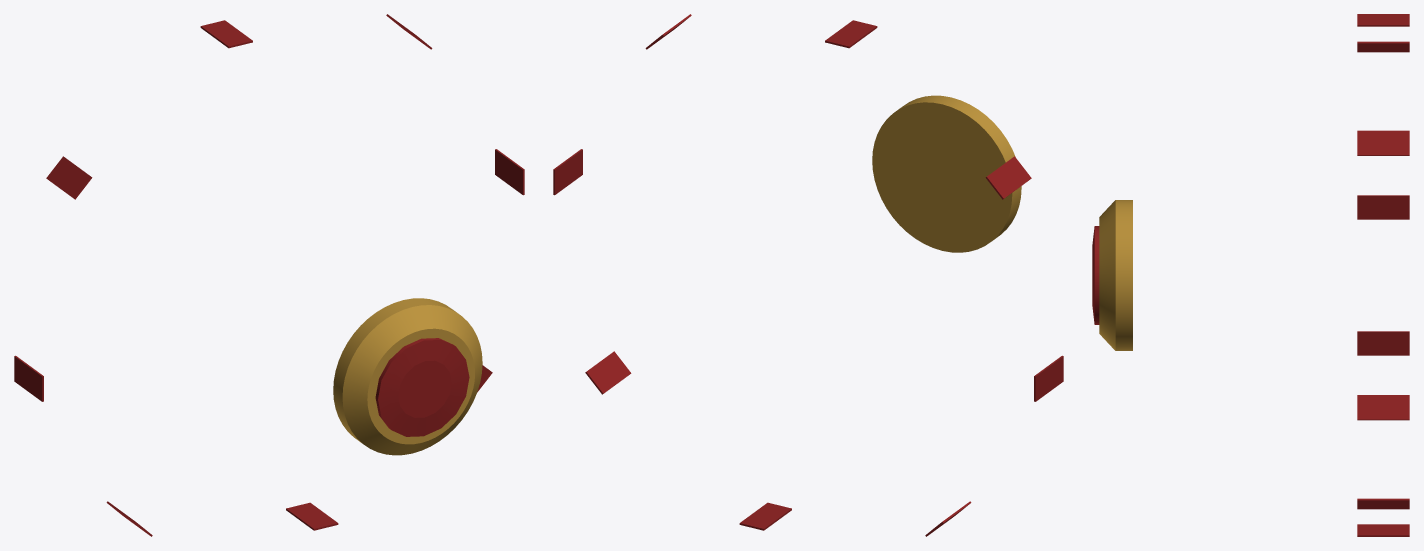
File: h12_seal.obj
3 renders of one model, left to right at view 1: azimuth 30°, elevation 25°; view 2: azimuth 150°, elevation 25°; view 3: azimuth 270°, elevation 25°, orthographic. The views are drawn at different scales.
Visible parts, largest first — view 1: h12_seal; view 2: h12_seal; view 3: h12_seal.
Boxes of the visible parts, left/top/right/bottom form: h12_seal: left=14, top=14, right=524, bottom=536; h12_seal: left=553, top=14, right=1063, bottom=536; h12_seal: left=1092, top=14, right=1409, bottom=536.
Size of the model in its own units: 2.84 by 2.84 by 1.73.
